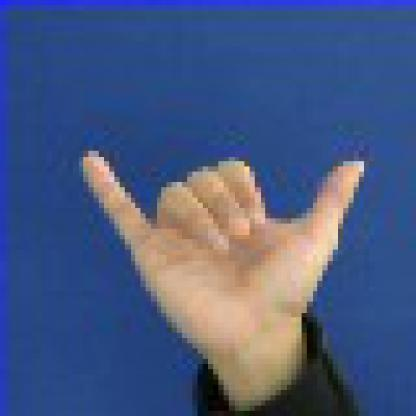six: (62, 89, 394, 392)
